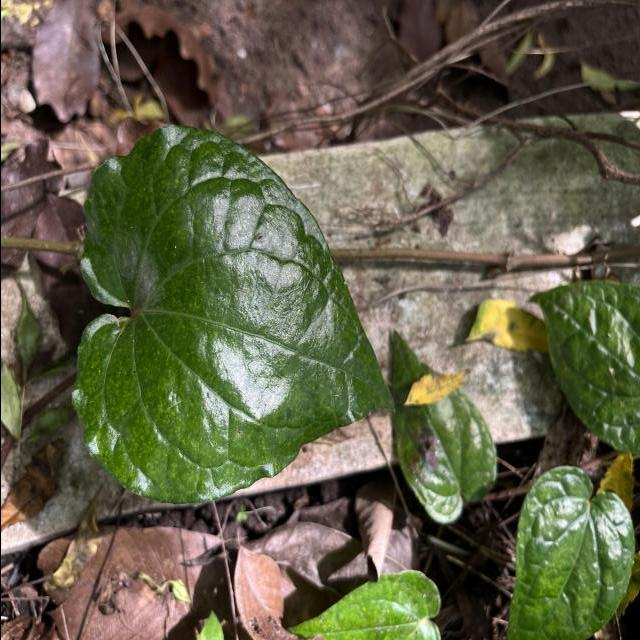Piper betle: (66, 121, 398, 508)
